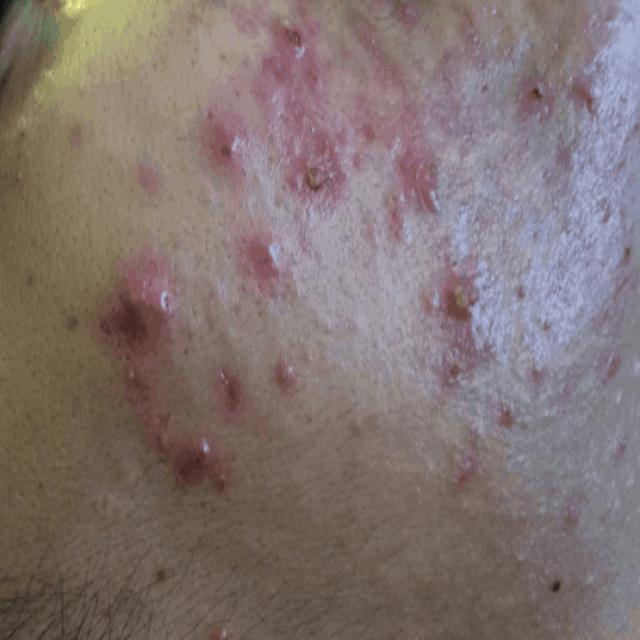blackhead: (156, 568, 166, 584), (549, 580, 562, 592), (36, 479, 44, 491)
nodule: (117, 267, 170, 337), (247, 235, 281, 282), (177, 438, 211, 484)
